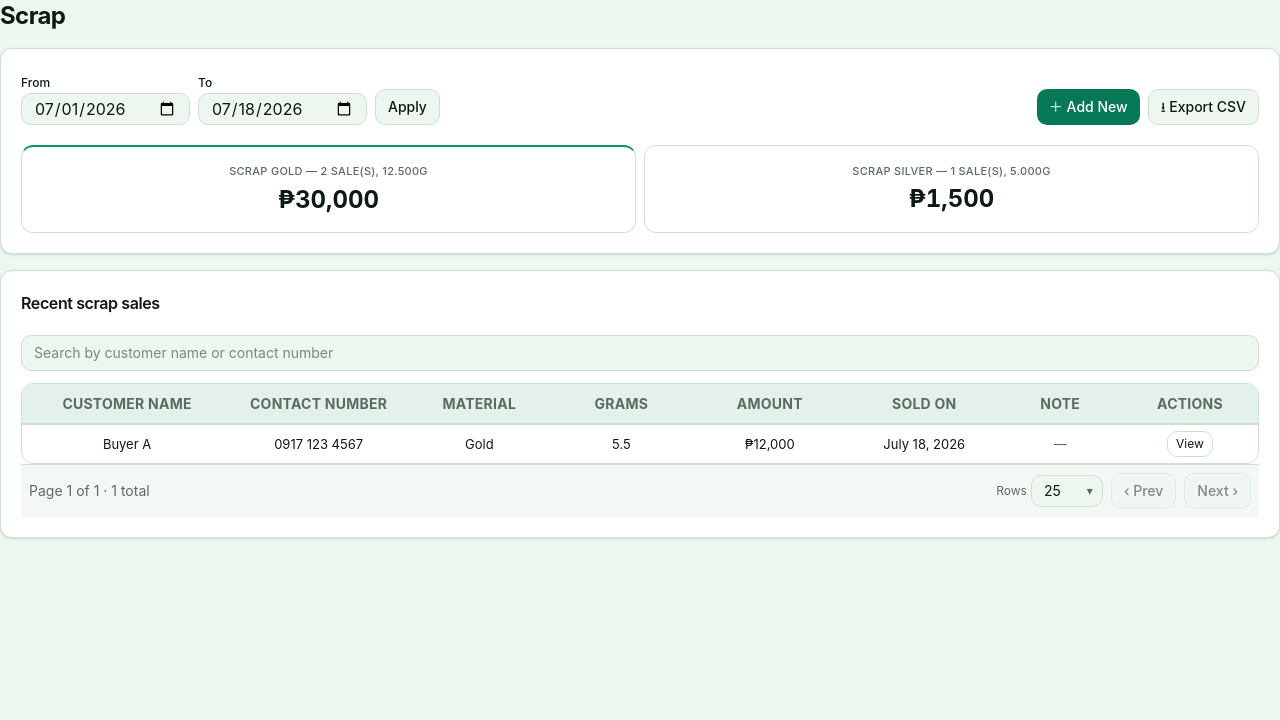
Test case: ScrapView › opens the multi-item entry with Customer Name + per-item fields and Add Item
Click the button with test id "scrap-record-open".
click(1088, 107)  # box [1037,89,1140,125]
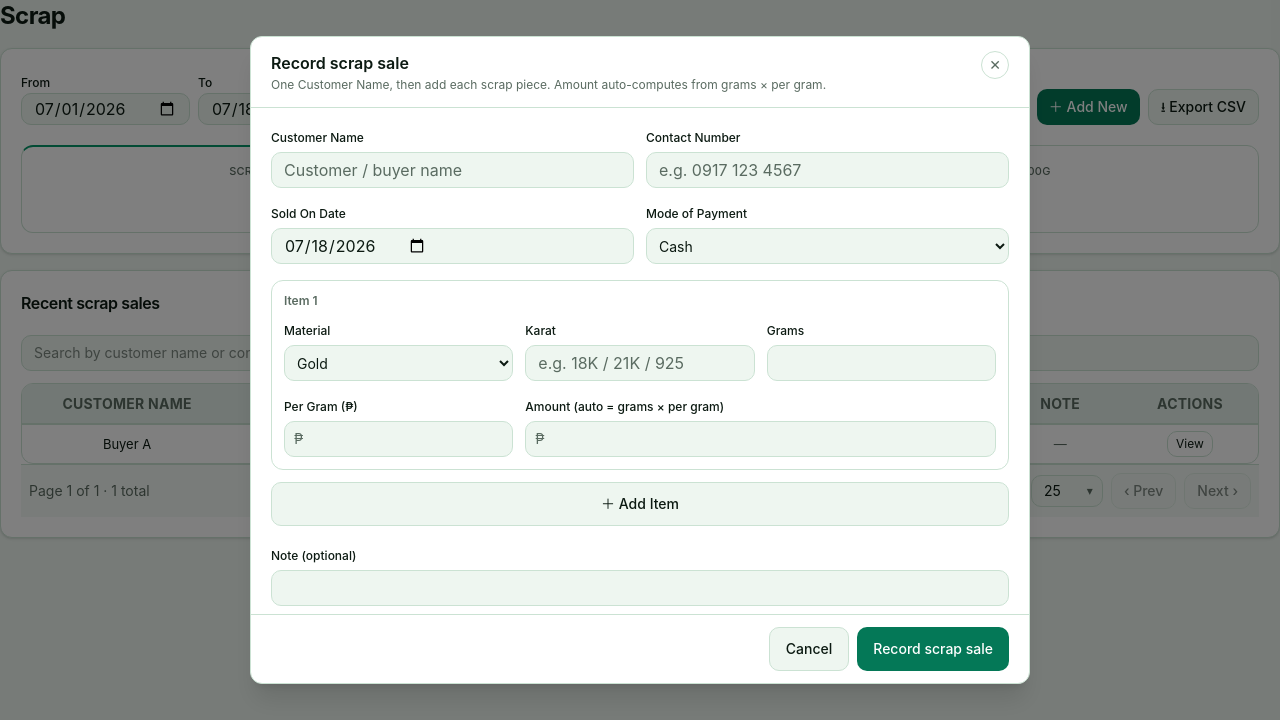
Check: the element with test id "modal" is shown, box [250,36,1030,684]
Check: the field labelled "Customer Name" is shown, box [271,152,634,188]
Check: the dropdown labelled "Material" is shown, box [284,345,513,381]
